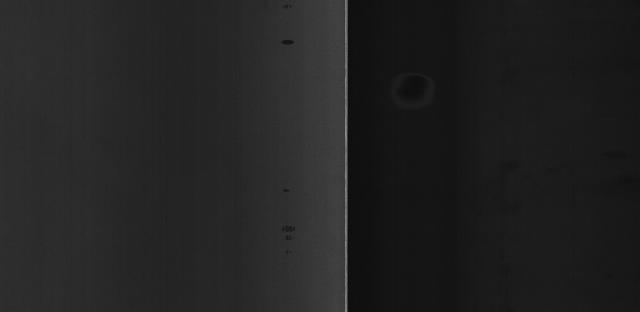oil_spot: (275, 224, 307, 258), (279, 35, 304, 56)
